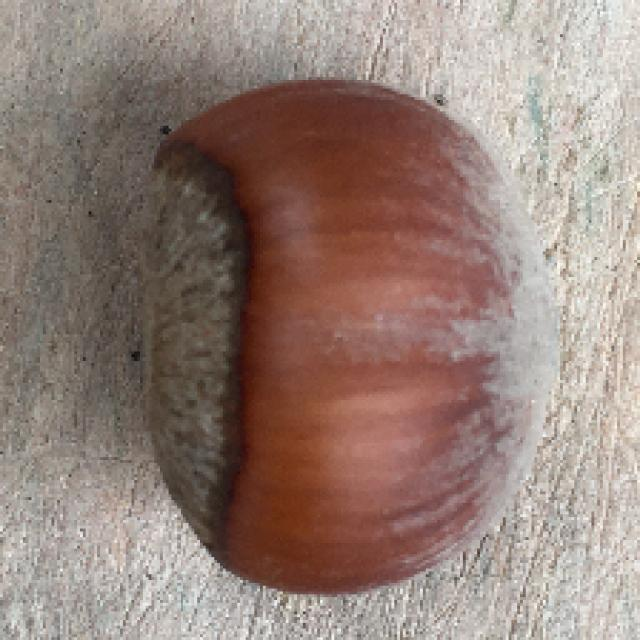qualityHazelnut: (126, 72, 560, 603)
